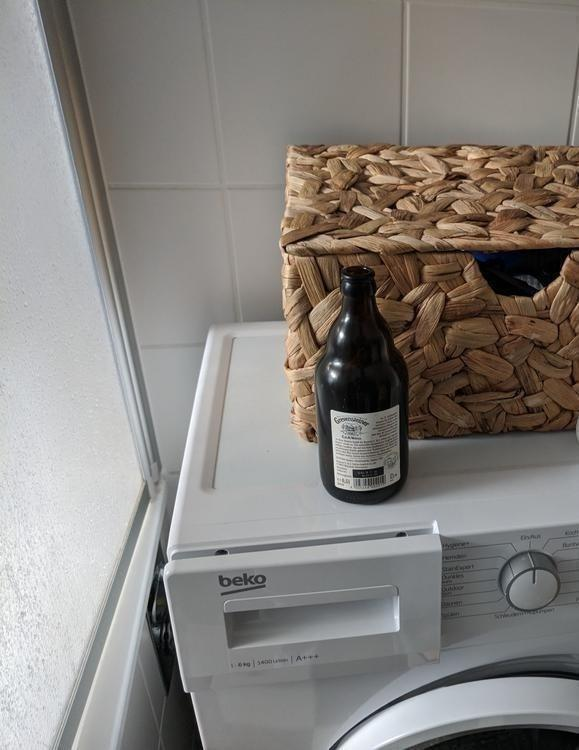bottle-glass: (312, 263, 411, 506)
